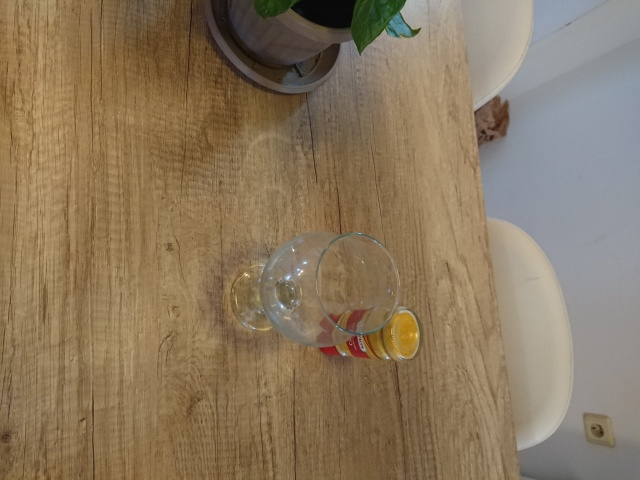Kotanyi Curry Spices Mix 70g: (316, 307, 426, 366)
